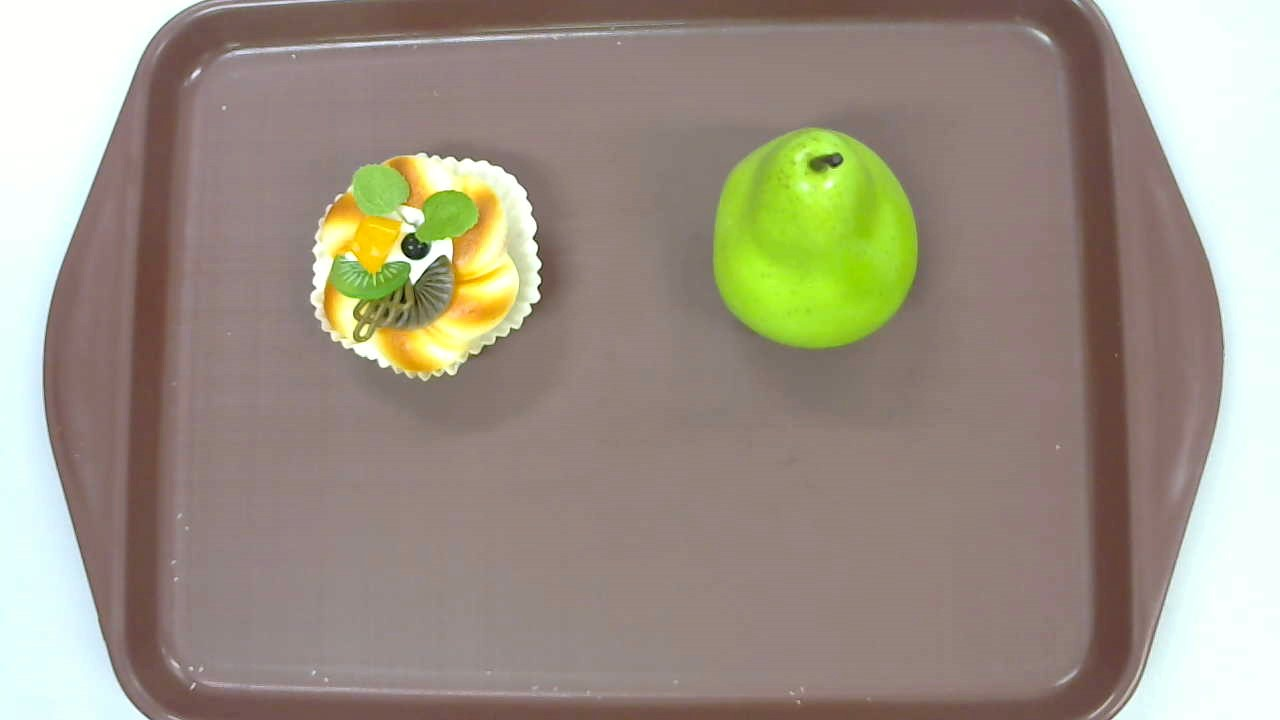fruit tart: (310, 153, 544, 382)
green pear: (710, 127, 919, 350)
